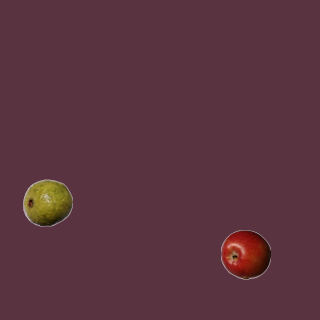Apple Braeburn: (220, 229, 270, 279)
Guava: (22, 177, 72, 227)
